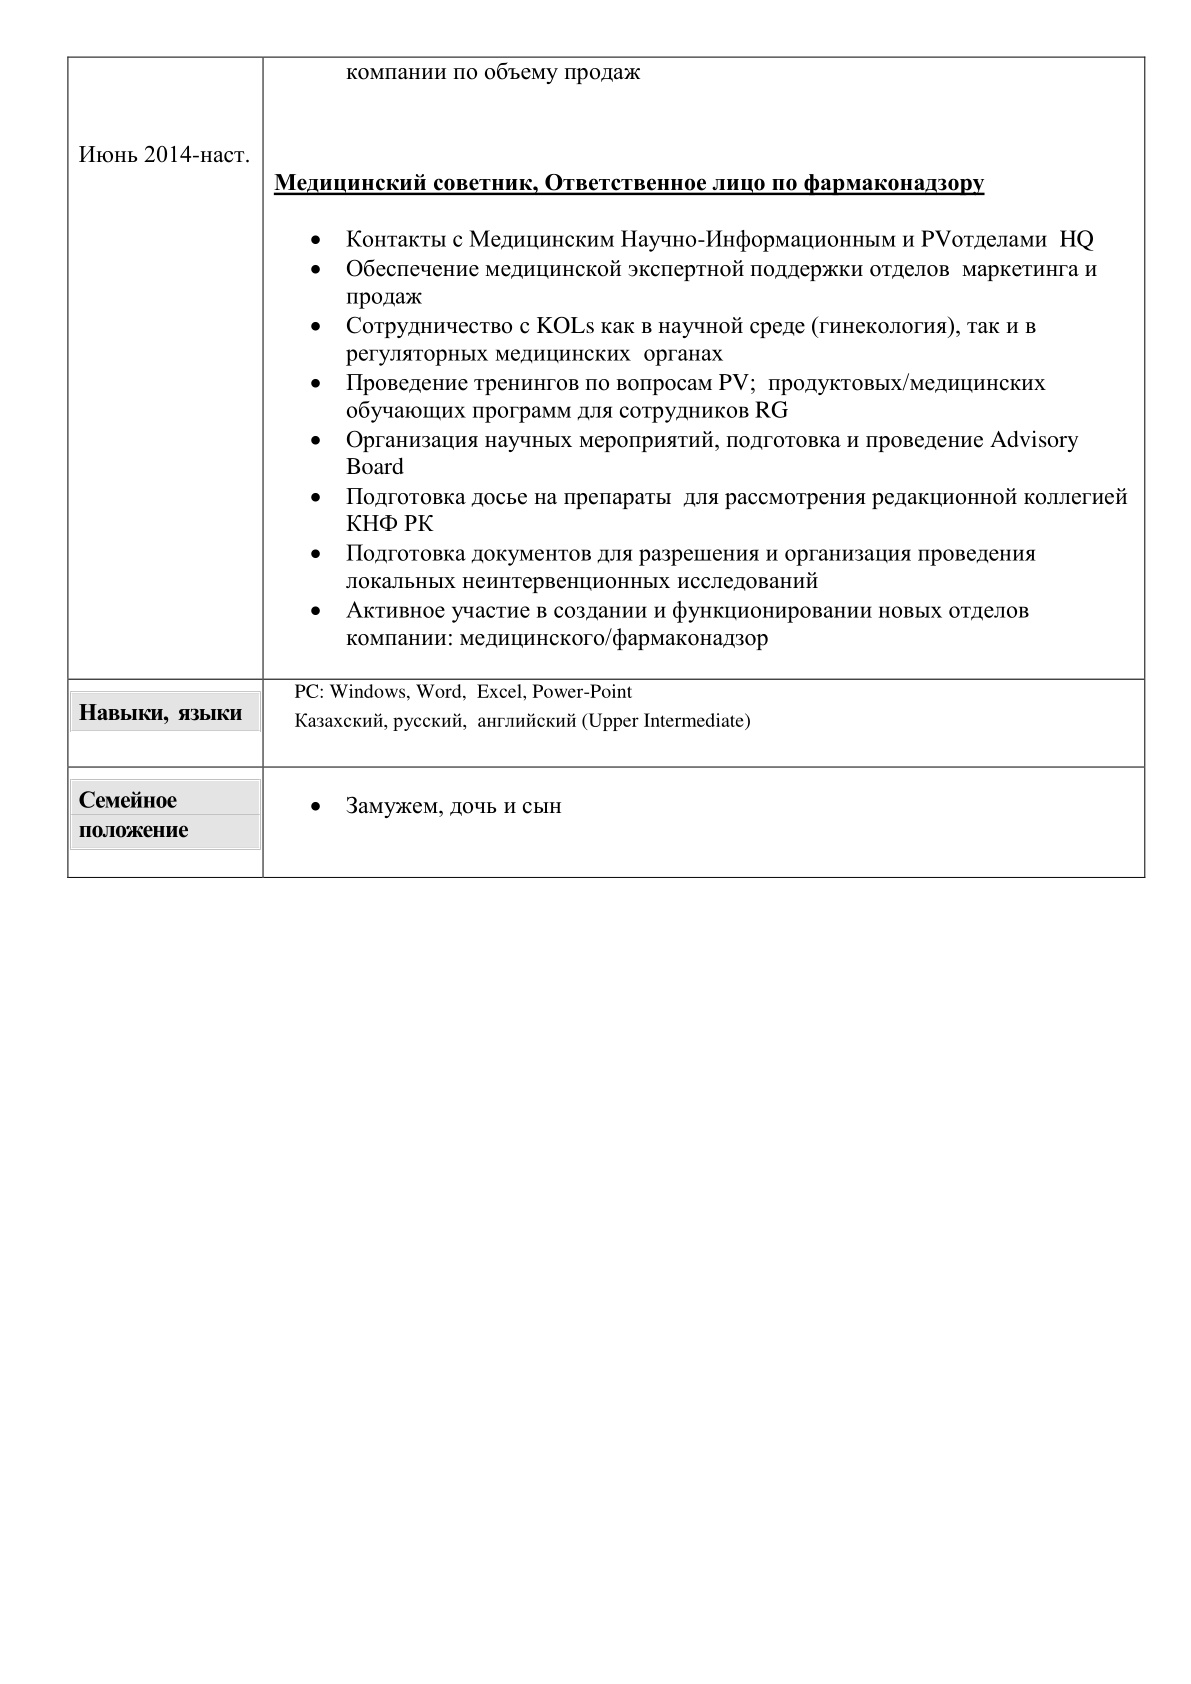merged_cells: (64, 55, 1147, 880)
